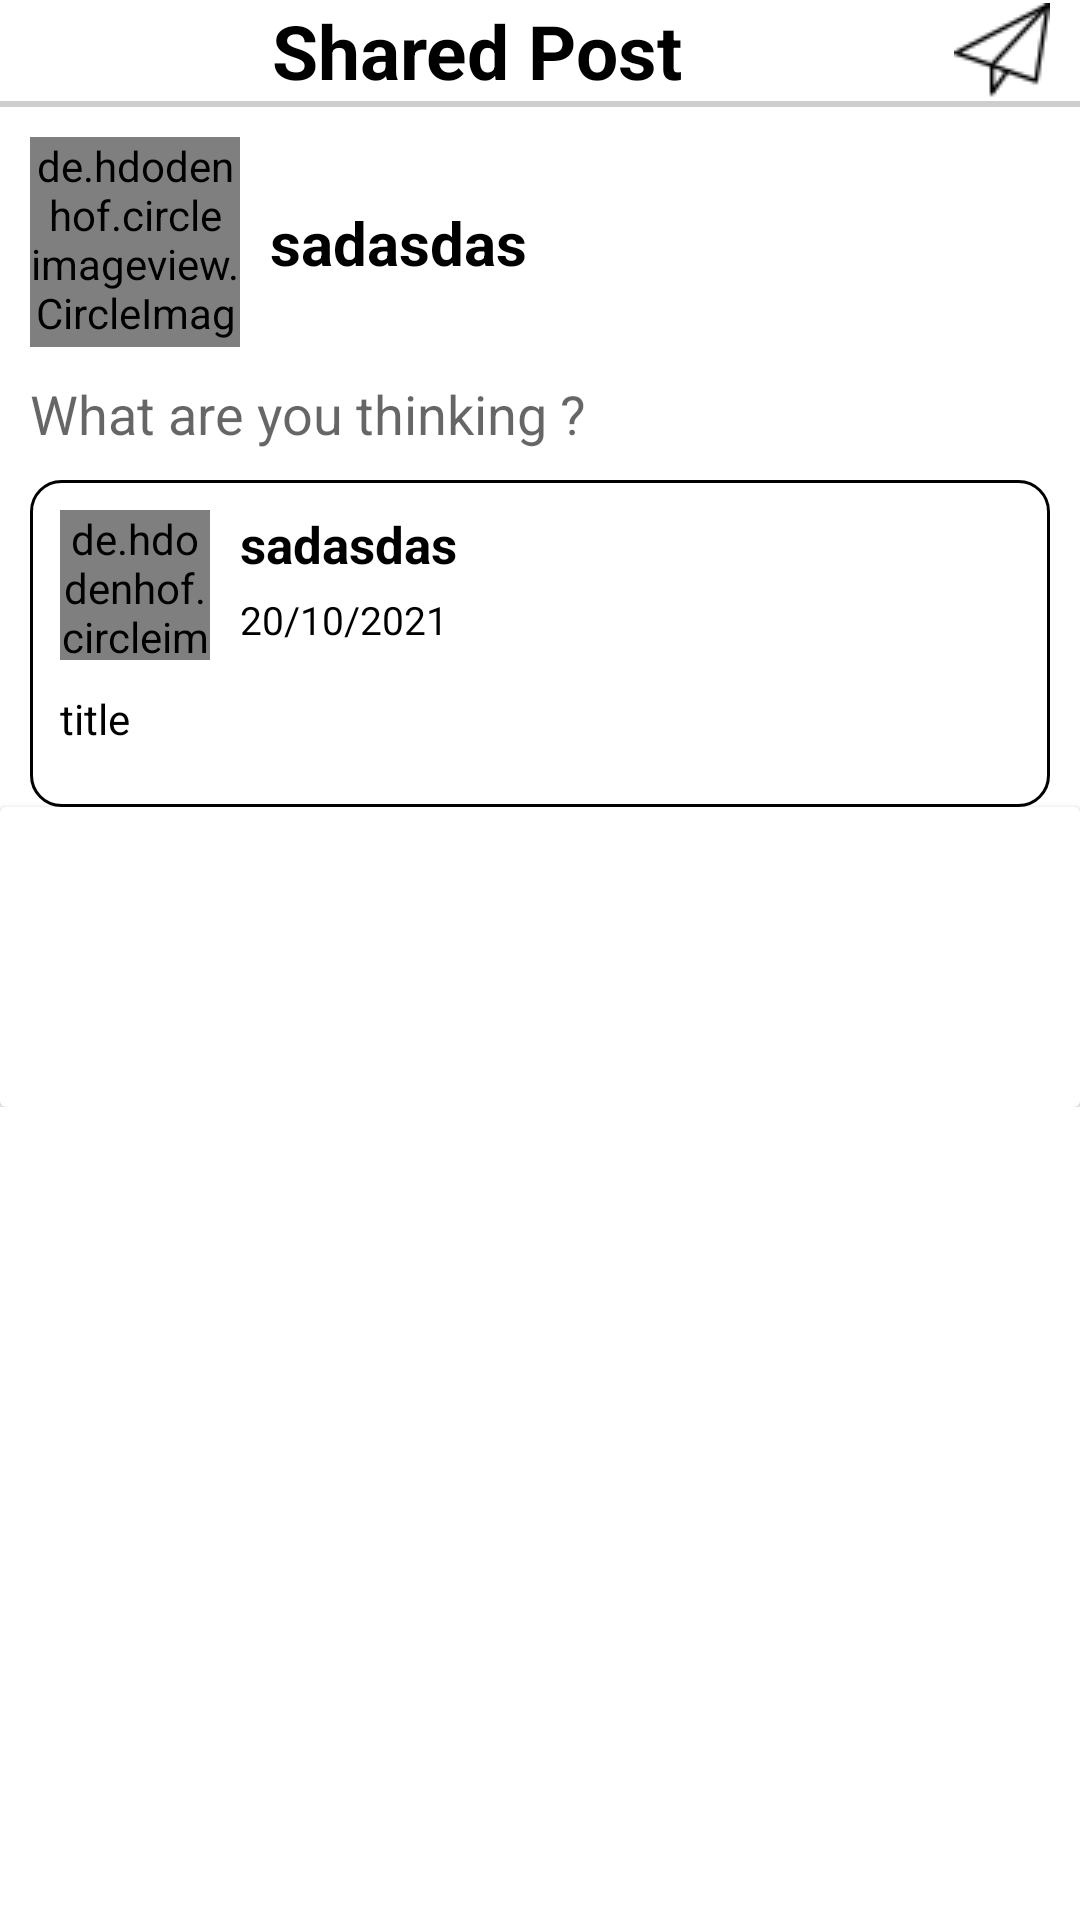

Named icons in this screenshot (1080 × 1920) and their bounding boxes, (x1, y1, x2, y2):
post: (954, 3, 1050, 97)
